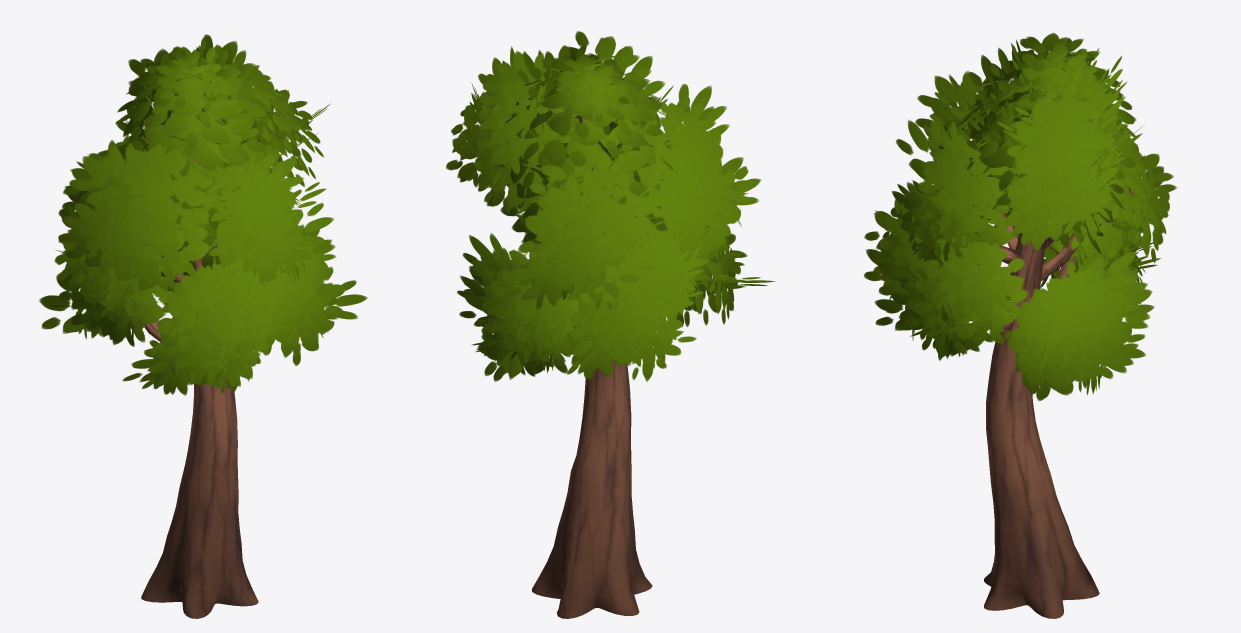
File: tree.glb
The picture shows the model from 3 angles, left to right: view 1: azimuth 30°, elevation 25°; view 2: azimuth 150°, elevation 25°; view 3: azimuth 270°, elevation 25°; orthographic projection. The views are drawn at different scales.
Visible parts, largest first — view 1: CommonTree_1; view 2: CommonTree_1; view 3: CommonTree_1.
Boxes of the visible parts, bbox=[...] form: CommonTree_1: bbox=[39, 34, 367, 618]; CommonTree_1: bbox=[446, 31, 775, 618]; CommonTree_1: bbox=[864, 33, 1176, 618].
Size of the model in its own units: 4.31 by 7.26 by 4.58.
Materials: 2 (2 with a texture image).
